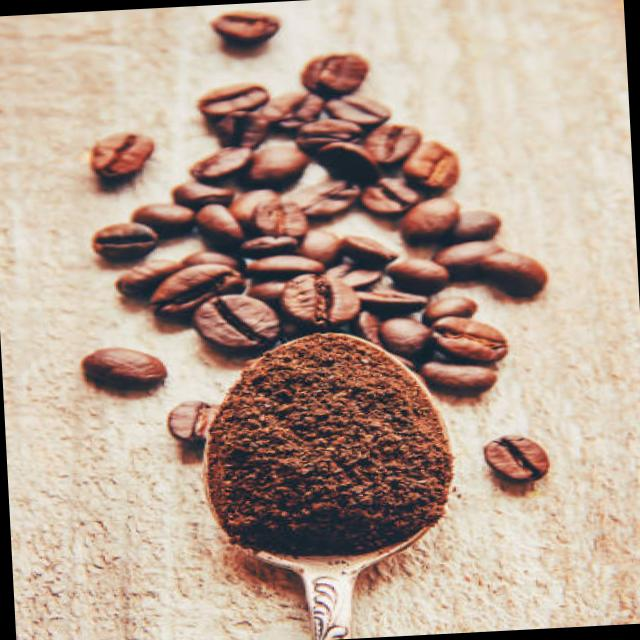paper: (125, 144, 558, 364), (264, 370, 398, 486)
